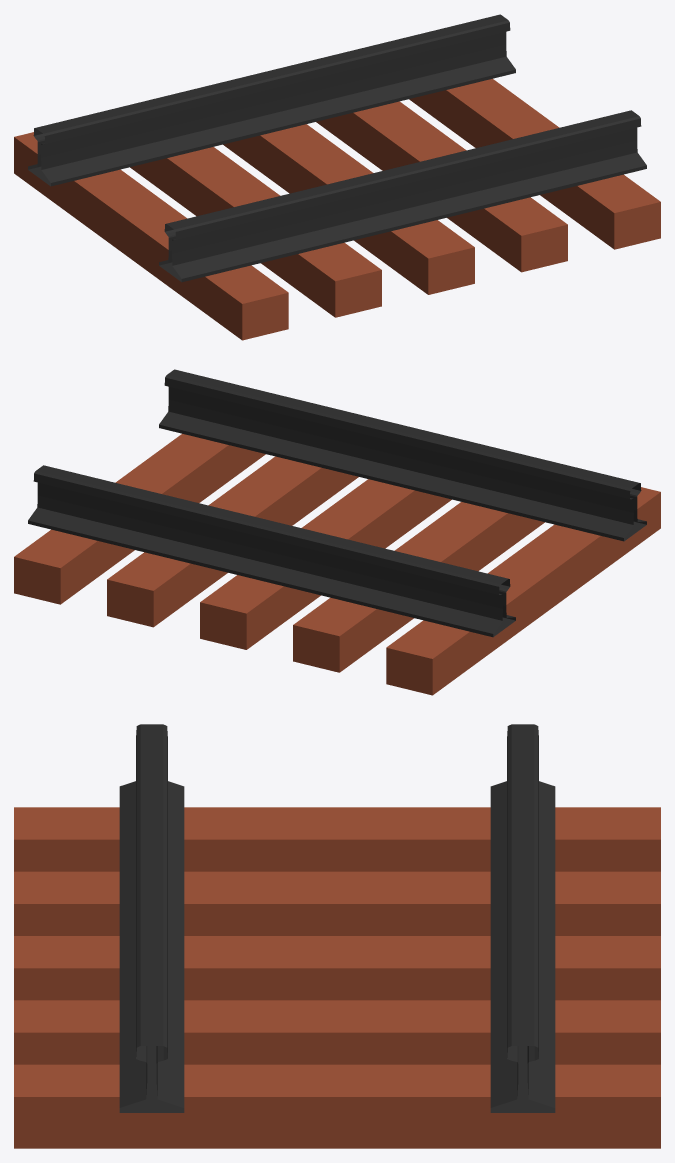
3 views of the same model, one above another, from view 1: azimuth 30°, elevation 25°; view 2: azimuth 150°, elevation 25°; view 3: azimuth 270°, elevation 25° (orthographic). The views are drawn at different scales.
Visible parts, largest first — view 1: Segment; view 2: Segment; view 3: Segment.
Part boxes in pixels (x1=…): Segment: x1=14, y1=14, x2=660, y2=340; Segment: x1=14, y1=369, x2=660, y2=695; Segment: x1=14, y1=724, x2=660, y2=1148.
Size of what is drawn, in the model's own units: 310 by 53.38 by 263.
Materials: 1 (1 with a texture image).
